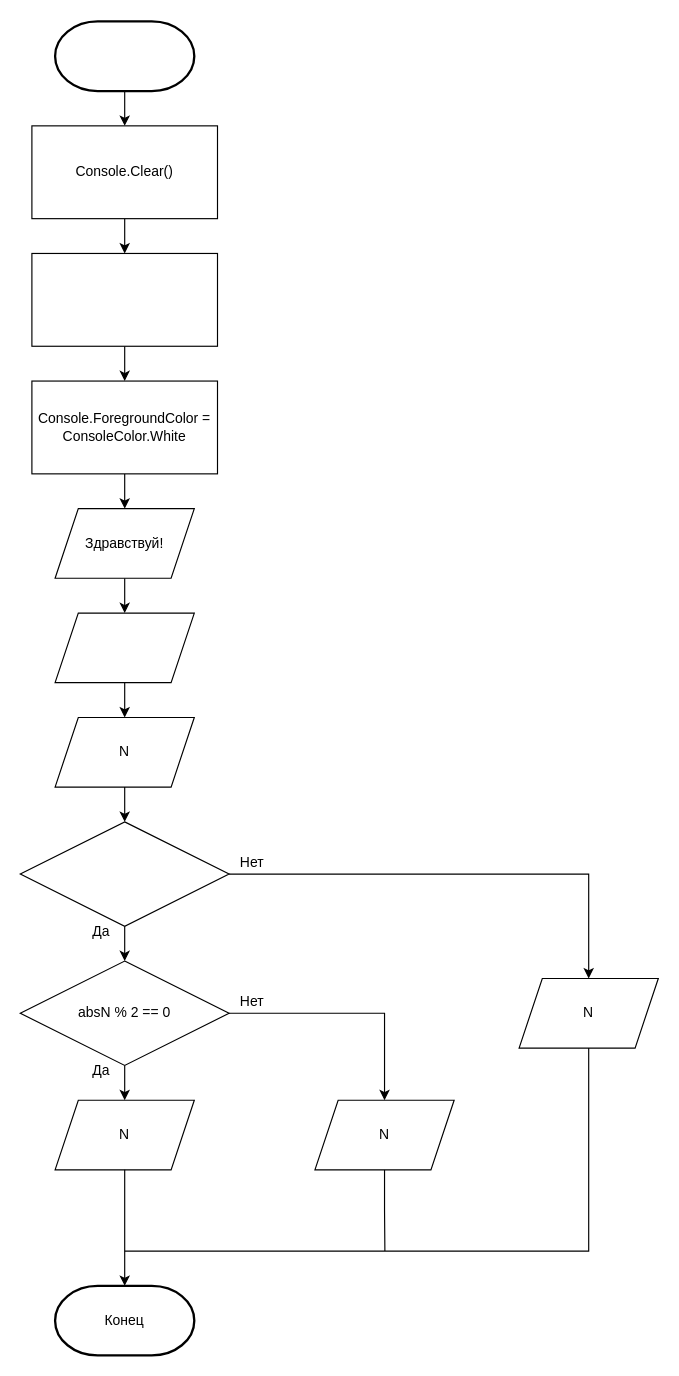
The diagram is 679 pixels wide and 1376 high, and some of its shapes have lost their labels. The shapes that lost their labels are listed below. From the top down, each one's centre as x and y in pixels, then its label:
At point (124, 56): "Начало".
At point (124, 299): "Console.Background = ConsoleColor.DarkMagenta".
At point (124, 647): "Введите N =".
At point (124, 873): "absN >= 1000 && absN <= 9999".
